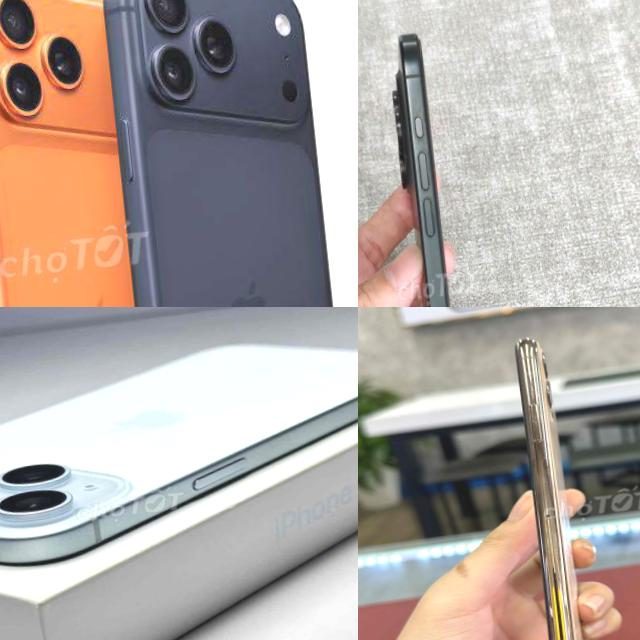gen_11: (492, 325, 609, 640)
gen_15: (0, 311, 358, 590), (362, 15, 490, 307)
gen_17: (96, 0, 358, 307)
